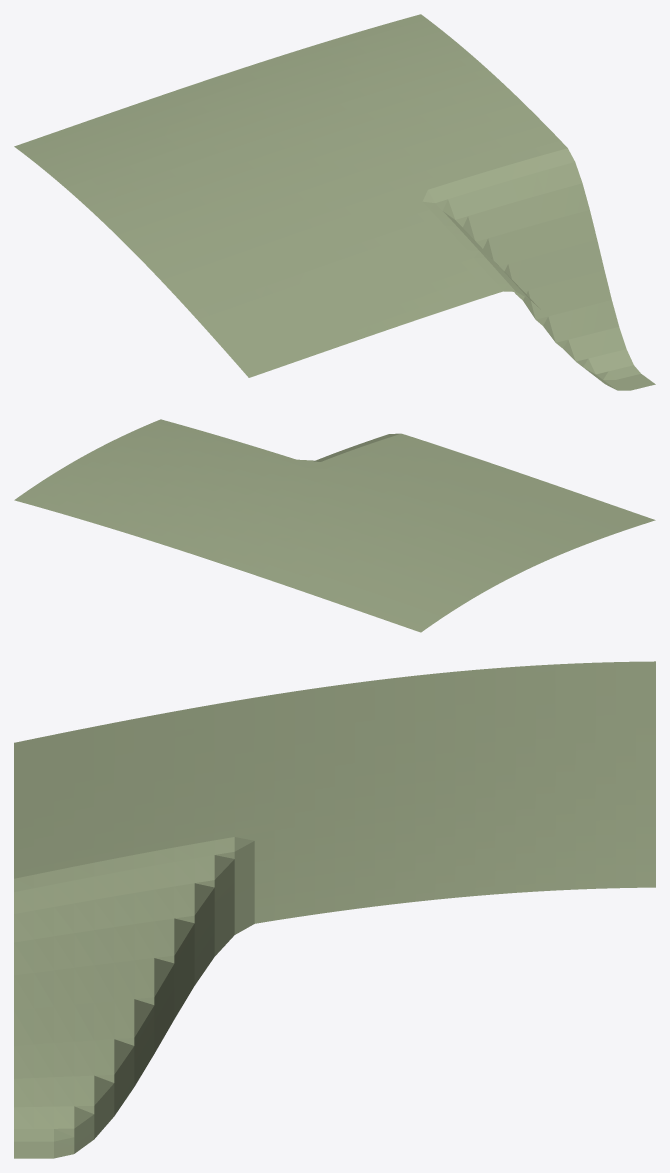
Rendered from valley-1-1.glb.
The picture shows the model from 3 angles, top to bottom: view 1: azimuth 30°, elevation 25°; view 2: azimuth 150°, elevation 25°; view 3: azimuth 270°, elevation 25°; orthographic projection. The views are drawn at different scales.
Parts seen in each view (by area): view 1: valley-1-1; view 2: valley-1-1; view 3: valley-1-1.
Part boxes in pixels (box(x1,y1,x2,y2)): valley-1-1: box(14, 14, 655, 390); valley-1-1: box(14, 419, 655, 632); valley-1-1: box(14, 661, 655, 1158).
Bounding box in the file's own units: 256 × 119 × 256.
